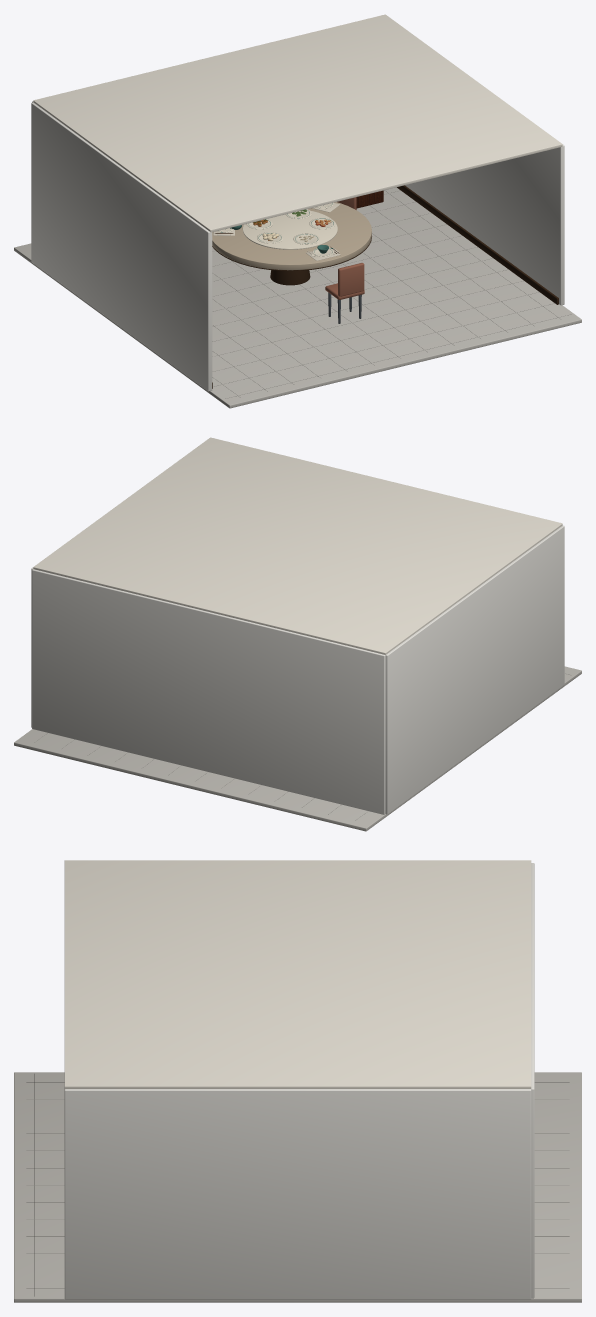
File: room-school.glb
The picture shows the model from 3 angles, top to bottom: view 1: azimuth 30°, elevation 25°; view 2: azimuth 150°, elevation 25°; view 3: azimuth 270°, elevation 25°; orthographic projection. The views are drawn at different scales.
Parts seen in each view (by area): view 1: Ceiling, Surface sc:officeWall, Floor, Surface sc:oat.002, Surface sc:floorJoint, Surface sc:porcelain, Surface sc:woodEdge, Surface sc:porcelain.001, Surface sc:terracotta, Surface sc:woodEdge.001; view 2: Surface sc:officeWall, Ceiling, Floor; view 3: Ceiling, Surface sc:officeWall, Floor, Surface sc:floorJoint.
Part boxes in pixels (x1=…): Ceiling: x1=33, y1=14, x2=562, y2=232; Surface sc:officeWall: x1=31, y1=101, x2=564, y2=391; Floor: x1=14, y1=187, x2=581, y2=408; Surface sc:oat.002: x1=212, y1=202, x2=371, y2=270; Surface sc:floorJoint: x1=212, y1=190, x2=571, y2=398; Surface sc:porcelain: x1=242, y1=210, x2=337, y2=249; Surface sc:woodEdge: x1=212, y1=185, x2=558, y2=388; Surface sc:porcelain.001: x1=217, y1=202, x2=335, y2=256; Surface sc:terracotta: x1=325, y1=197, x2=364, y2=299; Surface sc:woodEdge.001: x1=212, y1=233, x2=371, y2=285; Surface sc:officeWall: x1=31, y1=525, x2=564, y2=814; Ceiling: x1=33, y1=437, x2=562, y2=654; Floor: x1=14, y1=666, x2=581, y2=831; Ceiling: x1=64, y1=860, x2=531, y2=1088; Surface sc:officeWall: x1=64, y1=863, x2=534, y2=1299; Floor: x1=14, y1=1072, x2=581, y2=1302; Surface sc:floorJoint: x1=26, y1=1074, x2=569, y2=1296.
Bounding box in the file's own units: 13.36 × 5.89 × 14.
40 materials, 2 textured.
